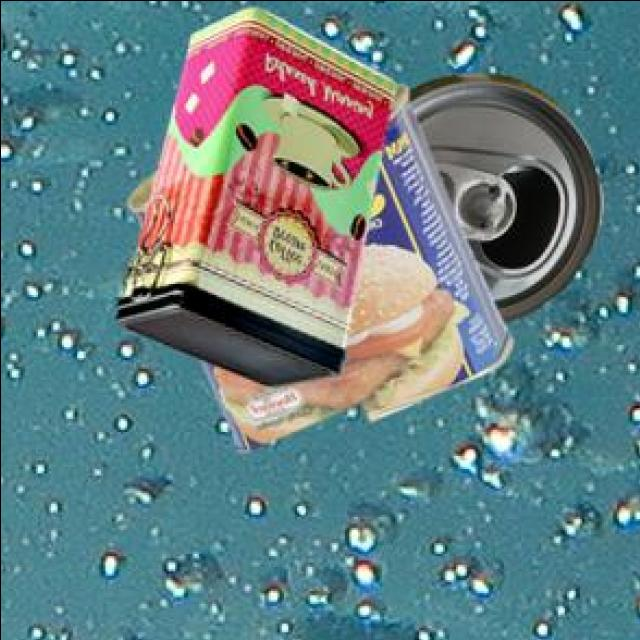logam: (123, 88, 508, 454), (112, 10, 391, 389), (404, 75, 600, 325)
